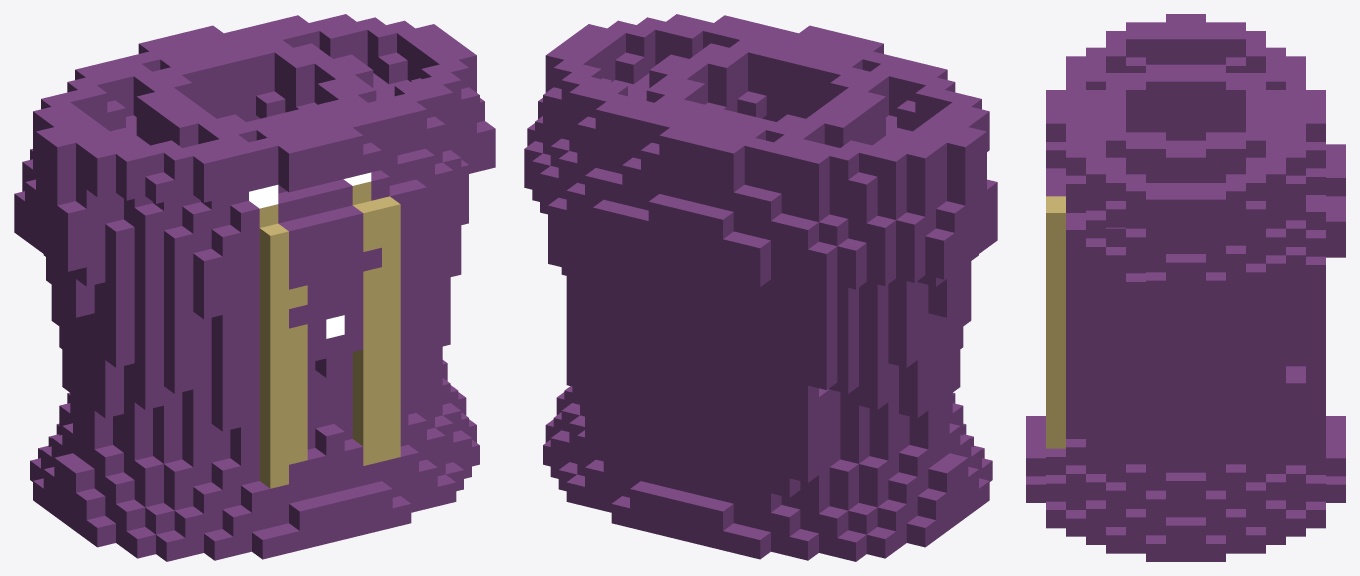
Rendered from cloth_epic_chest_lod1.glb.
3 views of the same model, side by side, from view 1: azimuth 30°, elevation 25°; view 2: azimuth 150°, elevation 25°; view 3: azimuth 270°, elevation 25° (orthographic). The views are drawn at different scales.
Parts seen in each view (by area): view 1: cloth_epic_chest_lod1; view 2: cloth_epic_chest_lod1; view 3: cloth_epic_chest_lod1.
Boxes of the visible parts, left/top/right/bottom form: cloth_epic_chest_lod1: left=14, top=14, right=495, bottom=561; cloth_epic_chest_lod1: left=524, top=14, right=997, bottom=561; cloth_epic_chest_lod1: left=1026, top=14, right=1345, bottom=561.
Size of the model in its own units: 0.552 by 0.48 by 0.384.
